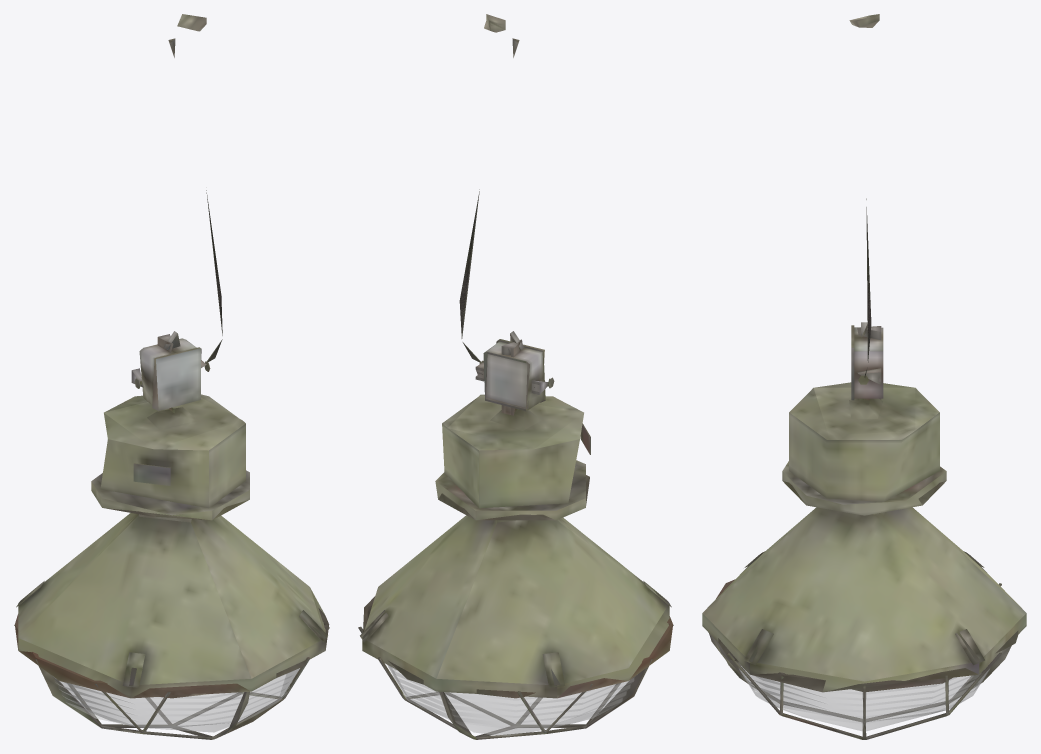
The model's file is lampHanging_lo.glb.
3 views of the same model, side by side, from view 1: azimuth 30°, elevation 25°; view 2: azimuth 150°, elevation 25°; view 3: azimuth 270°, elevation 25° (orthographic).
Visible parts, largest first — view 1: hanging_industrial_lamp; view 2: hanging_industrial_lamp; view 3: hanging_industrial_lamp.
Boxes of the visible parts, x1,y1,x2,y2 form: hanging_industrial_lamp: [14, 14, 329, 739]; hanging_industrial_lamp: [358, 14, 673, 739]; hanging_industrial_lamp: [702, 14, 1026, 739].
Bounding box in the file's own units: 0.5462 × 1.34 × 0.5497.
2 materials, 1 textured.
